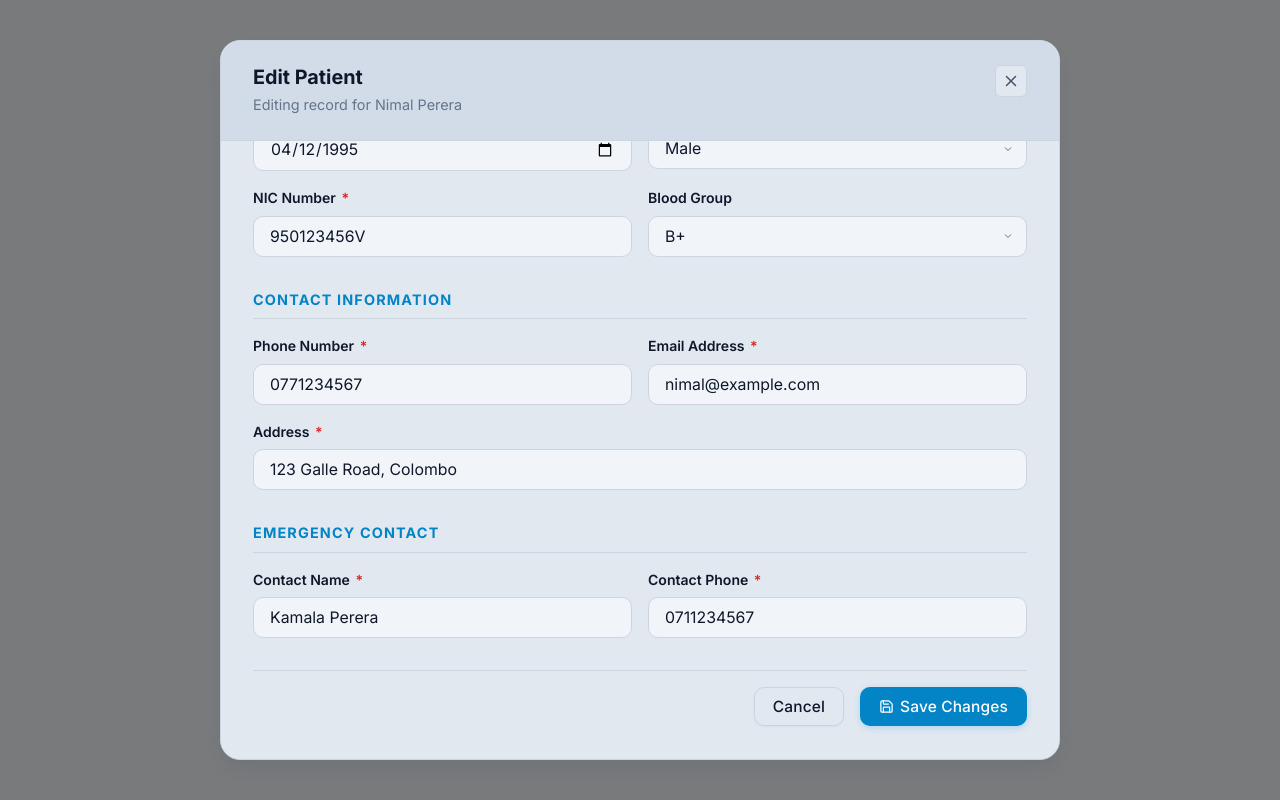
Test: PatientForm Component and Validation › Form submission and UI validation display › shows error banner when submitting non-12-digit NIC in Edit mode
(page scrolled)
Step 1. Click the button "Save Changes" → (944, 707), box [860,687,1027,726]
(page scrolled)
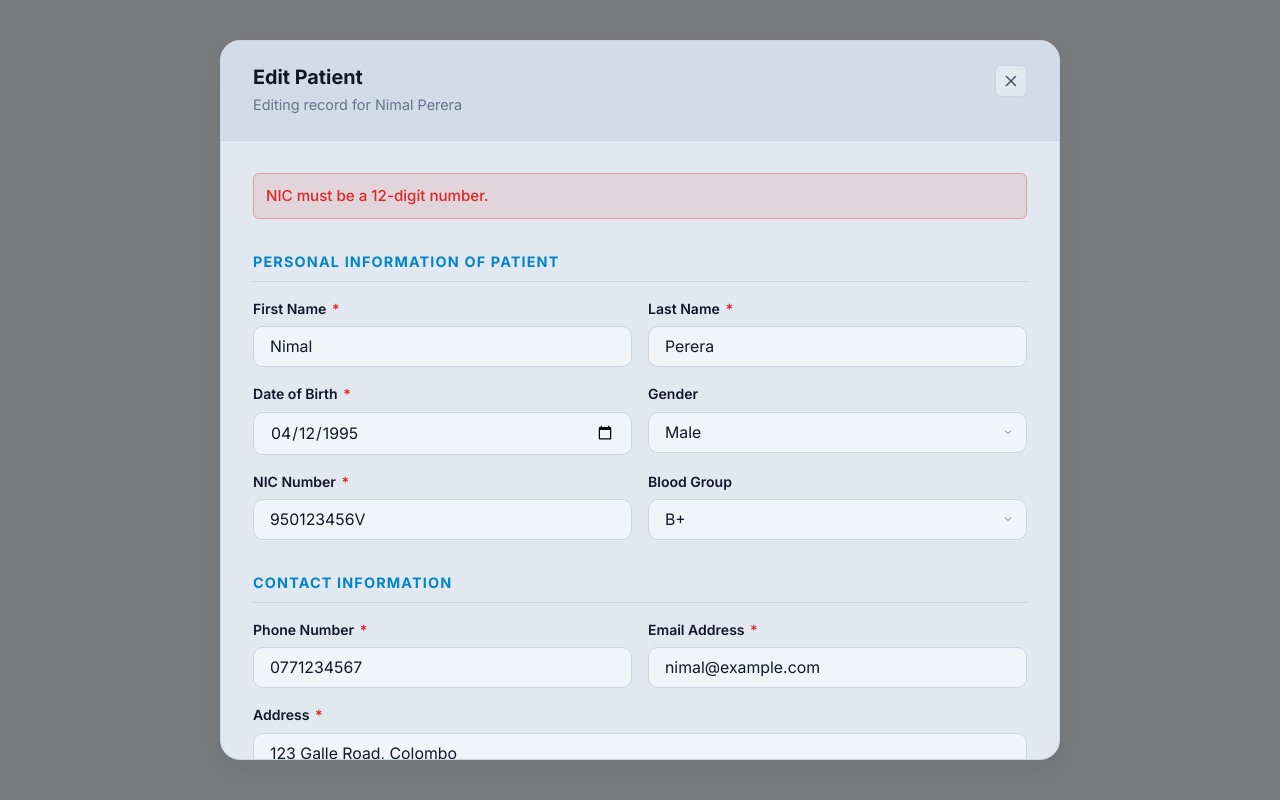
Expected: the text "NIC must be a 12-digit number." is shown, [253,173,1027,219]
